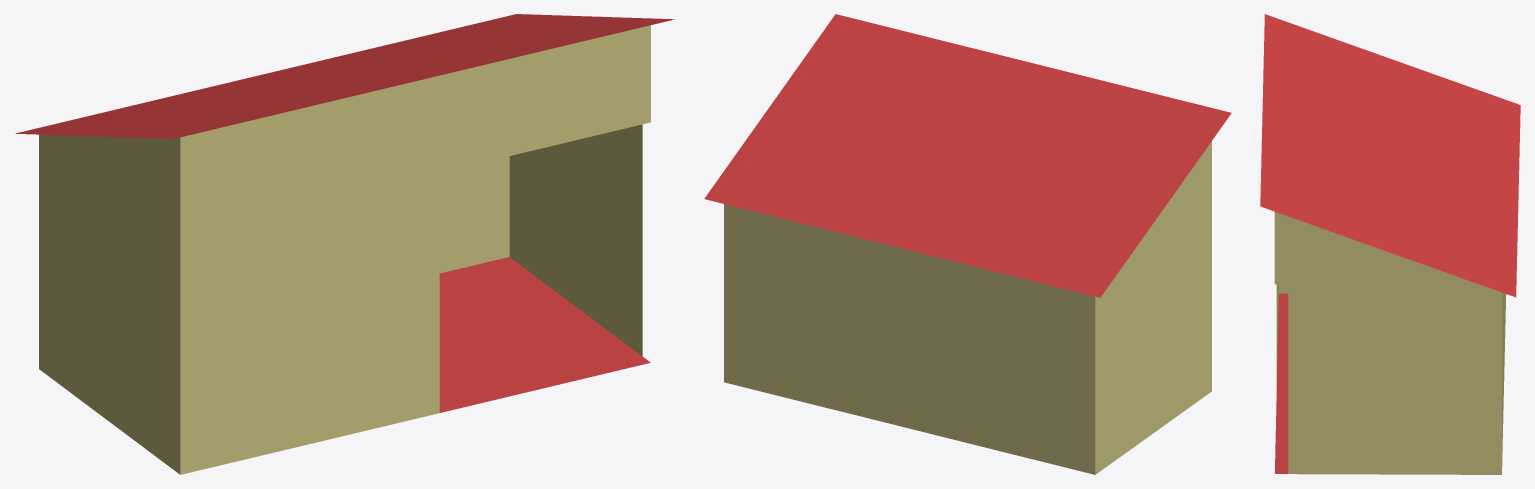
3 views of the same model, side by side, from view 1: azimuth 30°, elevation 25°; view 2: azimuth 150°, elevation 25°; view 3: azimuth 270°, elevation 25° (orthographic). The views are drawn at different scales.
Size of the model in its own units: 15.93 by 9.06 by 10.5.
